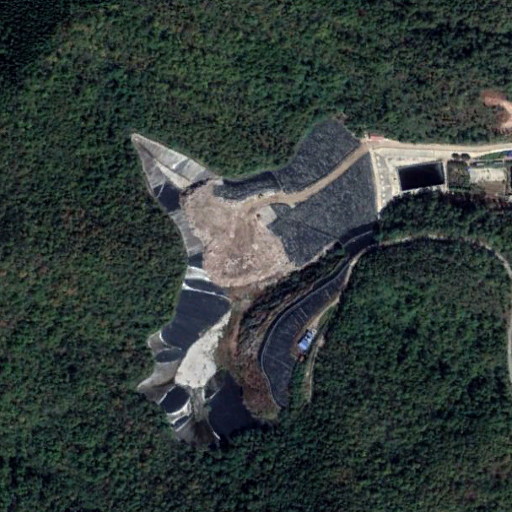lf: (131, 113, 379, 445)
